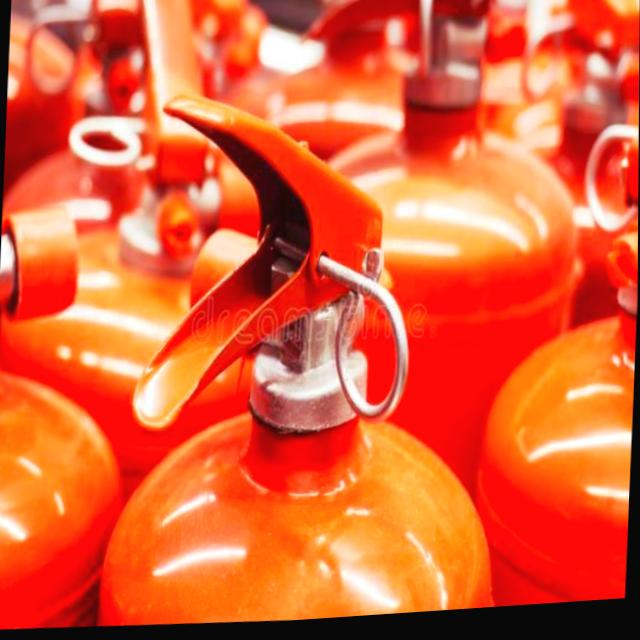FireExtinguisher: (88, 73, 530, 635), (262, 0, 604, 626), (457, 111, 639, 616), (0, 186, 145, 632)
